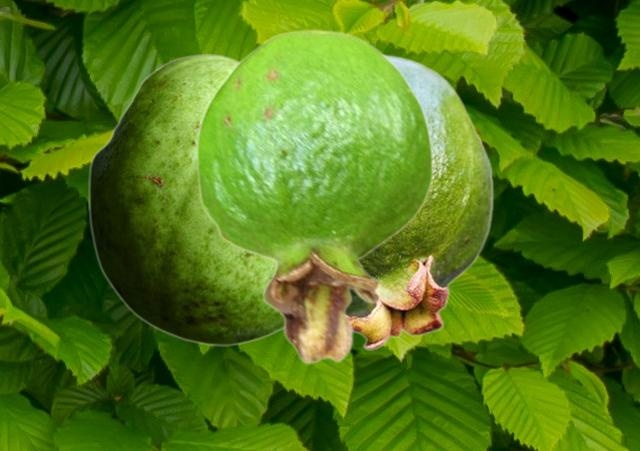guava: (195, 28, 433, 364), (88, 54, 282, 345), (347, 51, 493, 350)
